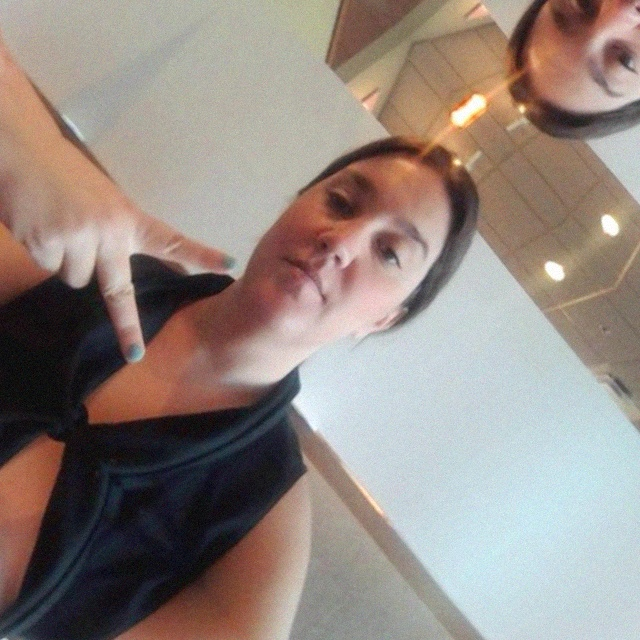Scissors: (0, 0, 114, 233)
